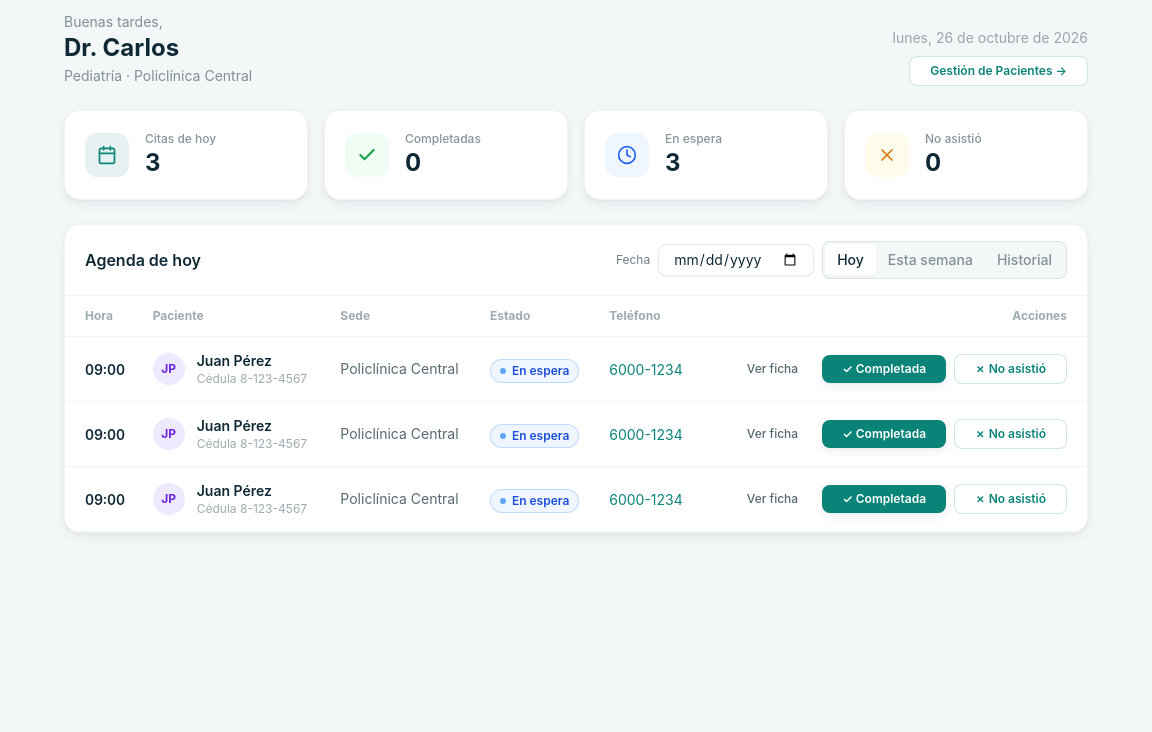
Test case: <MedicoDashboardV2 /> › en la pestaña "semana" agrupa las citas por día con un encabezado de fecha
Step 1. Click the button "Esta semana" → (930, 260), box [876,244,985,276]
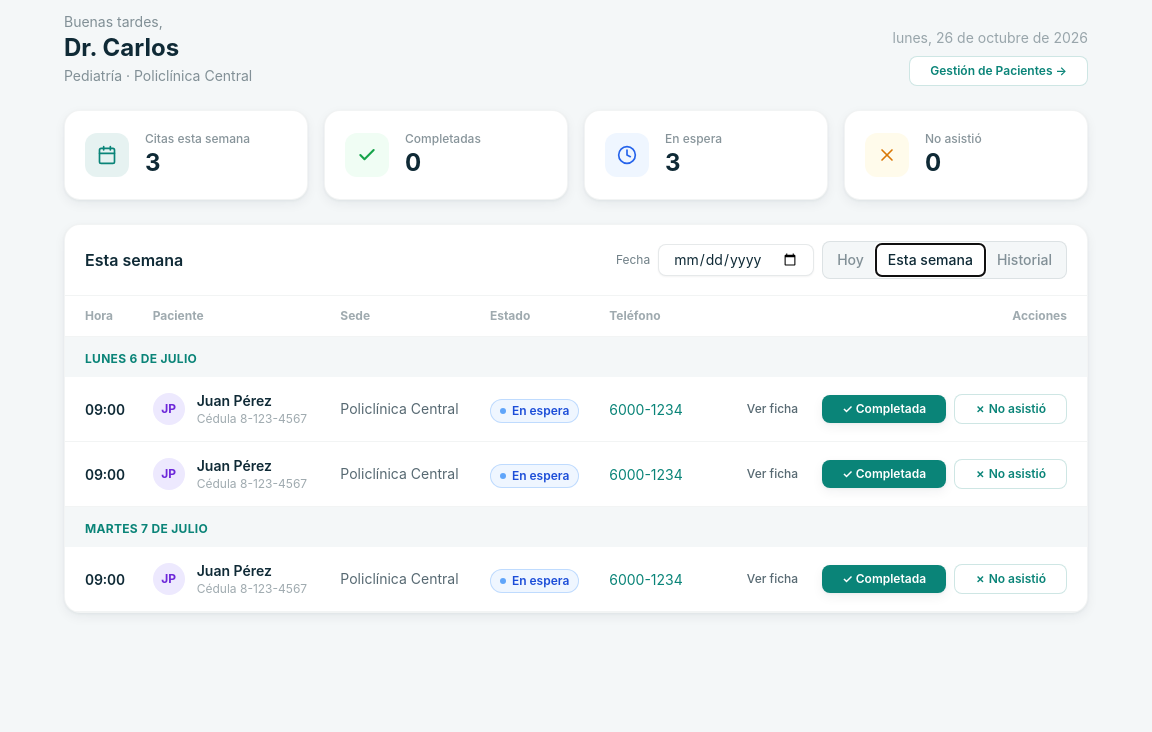
expect the text "Lunes 6 de julio" is shown: met, box [85,351,197,366]
expect the text "Martes 7 de julio" is shown: met, box [85,521,208,536]
